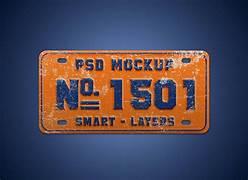number_plate: (41, 52, 206, 131)
